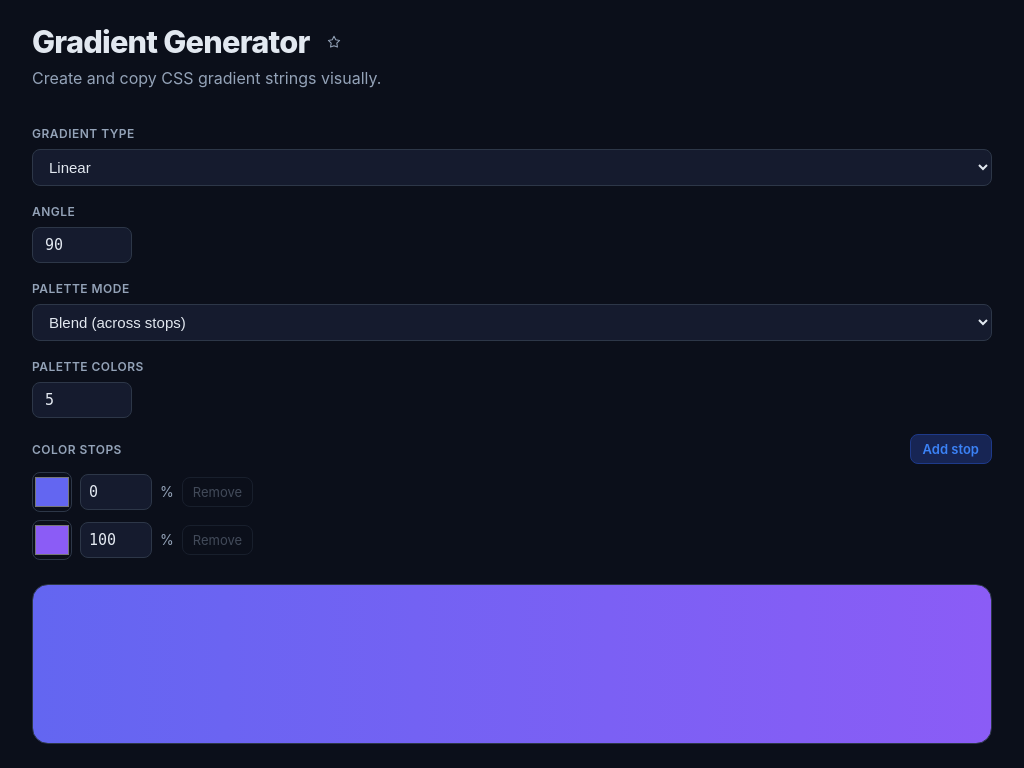
GradientGenerator › clicking "Add stop" adds a new stop
The width and height of the screenshot is (1024, 768).
Click the button "Add stop" at (951, 450), box [910,434,992,464]
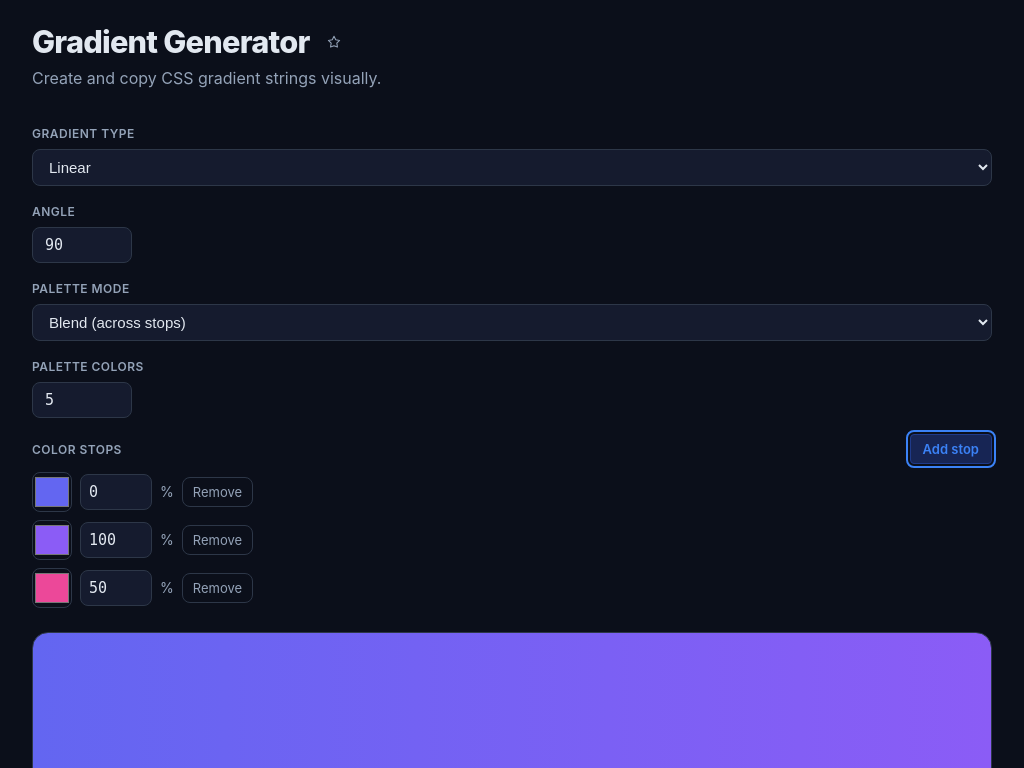
Result: the number of colour fields named "Stop 1 color" is 3 at [32,472,72,512]; [32,520,72,560]; [32,568,72,608]
